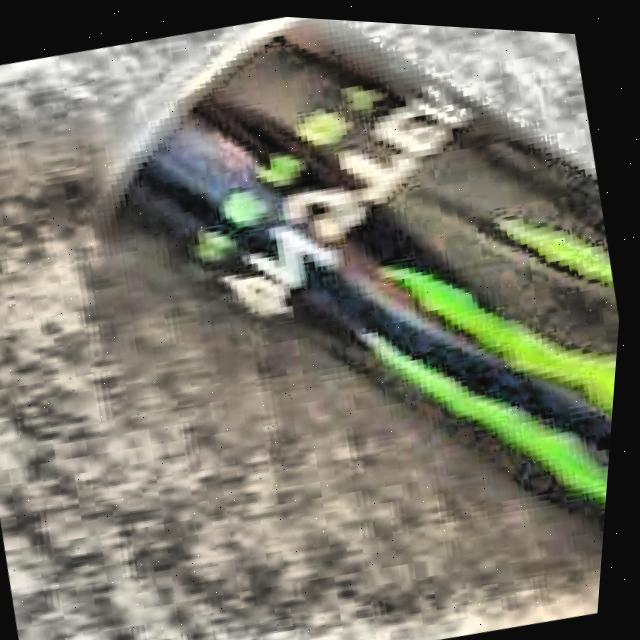metal: (95, 13, 623, 539)
